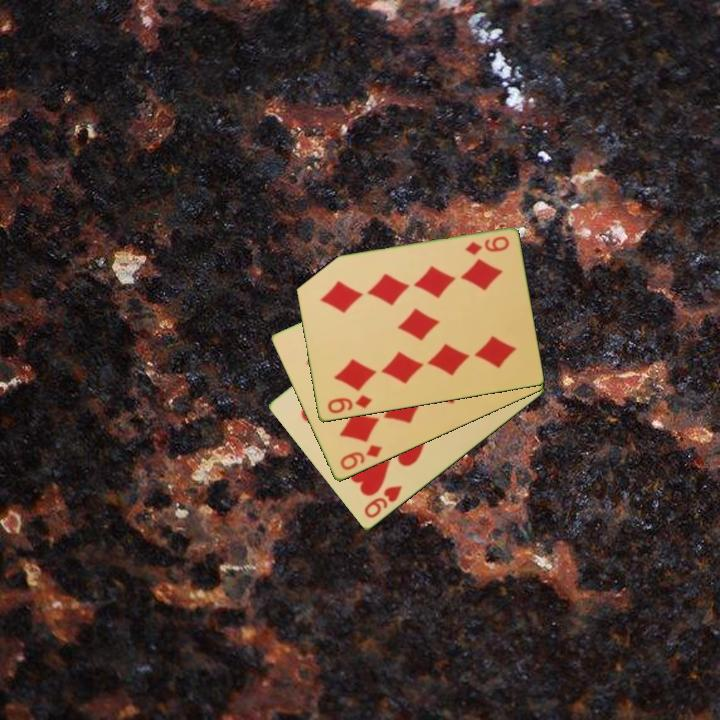9d: (336, 442, 385, 474), (462, 233, 512, 259), (324, 392, 374, 417)
9h: (360, 482, 405, 522)
